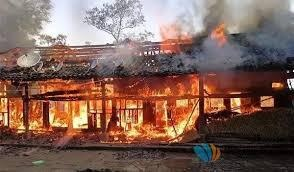fire: (158, 23, 192, 52), (210, 21, 228, 43)
